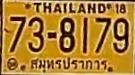1: (82, 17, 87, 53)
3: (28, 17, 44, 52)
7: (95, 17, 111, 53), (9, 16, 25, 52)
8: (59, 17, 75, 53)
9: (112, 17, 129, 54)
SPK: (27, 56, 108, 73)
